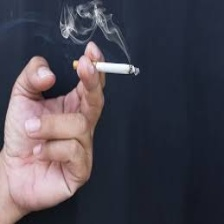smoke: (59, 6, 125, 43)
